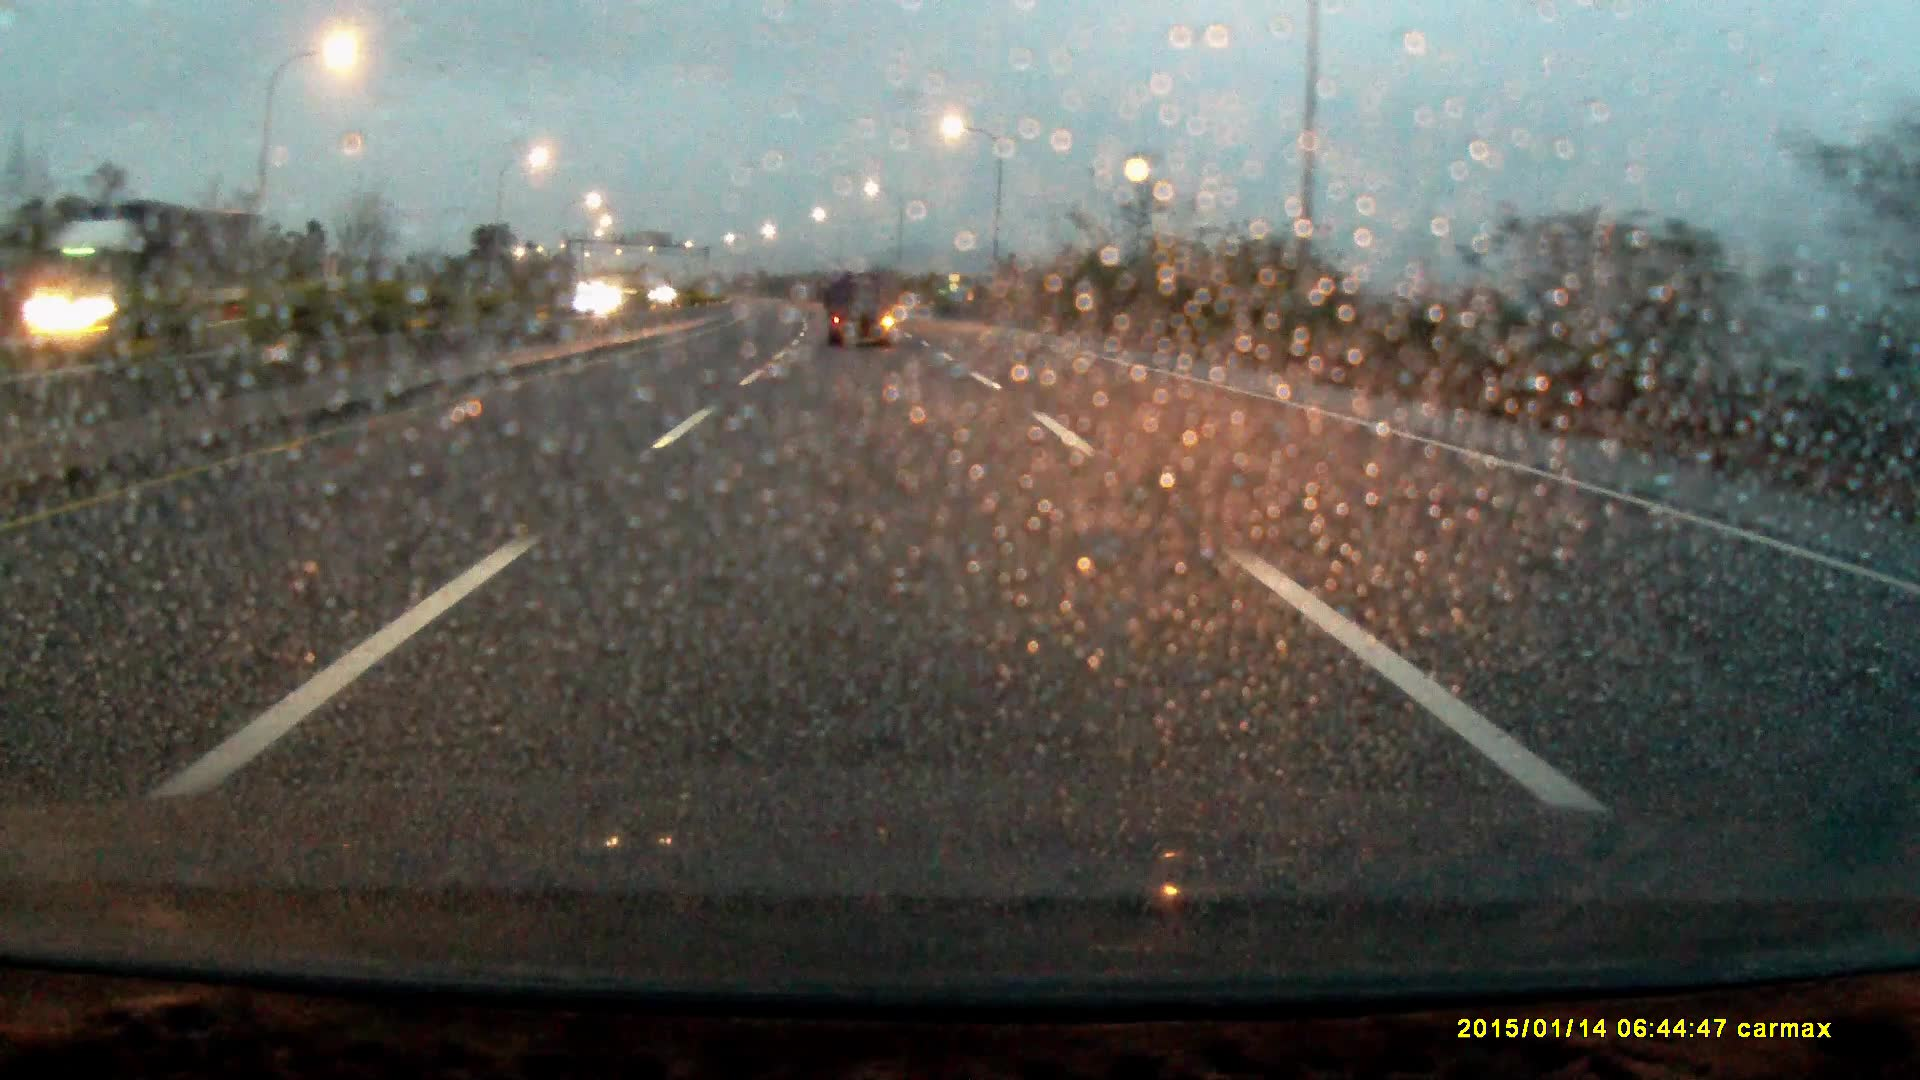vehicle: (42, 207, 270, 388), (825, 277, 899, 349), (589, 291, 633, 314)
